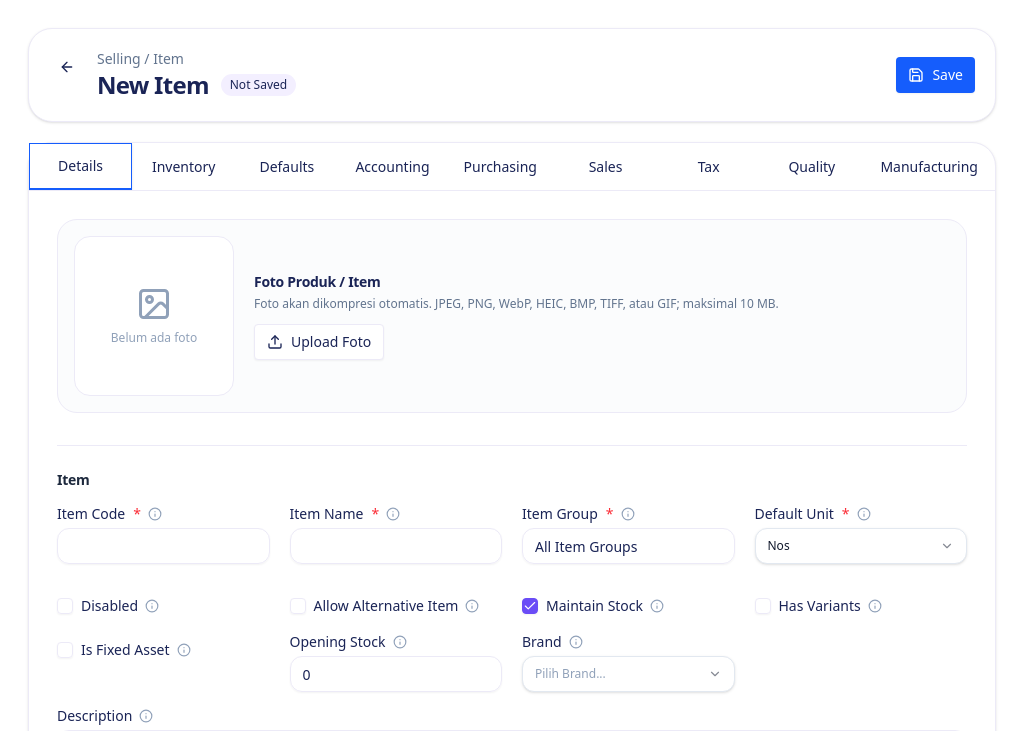
Test: ItemFormPage › fetches UOM and Brand from API and renders SearchableSelect for both
Expected: the heading "New Item" is shown, left=97, top=69, right=209, bottom=101
Expected: the text "Pilih Brand..." is shown, left=535, top=666, right=606, bottom=682
# Click Brand trigger
Click the button "Pilih Brand...": (628,674) left=522, top=656, right=734, bottom=692
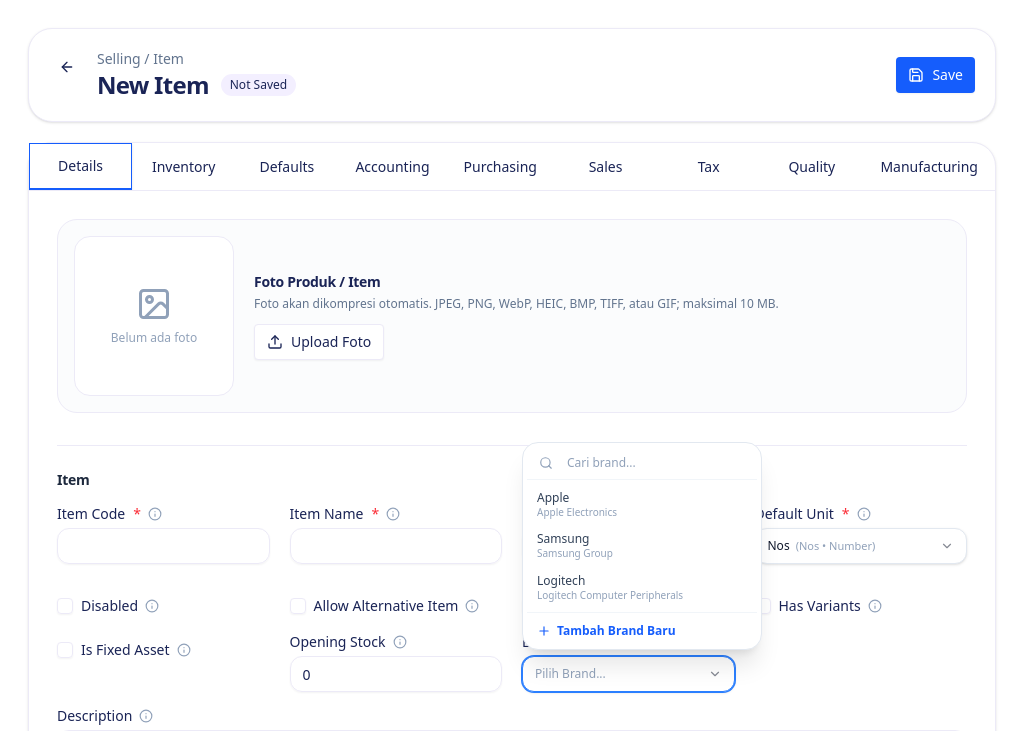
Expected: the text "Apple" is shown, left=537, top=490, right=569, bottom=506
Expected: the text "Samsung" is shown
Expected: the text "Logitech" is shown, left=537, top=573, right=585, bottom=589
# Select "Samsung"
Click the text "Samsung": (563,539) left=537, top=530, right=590, bottom=547
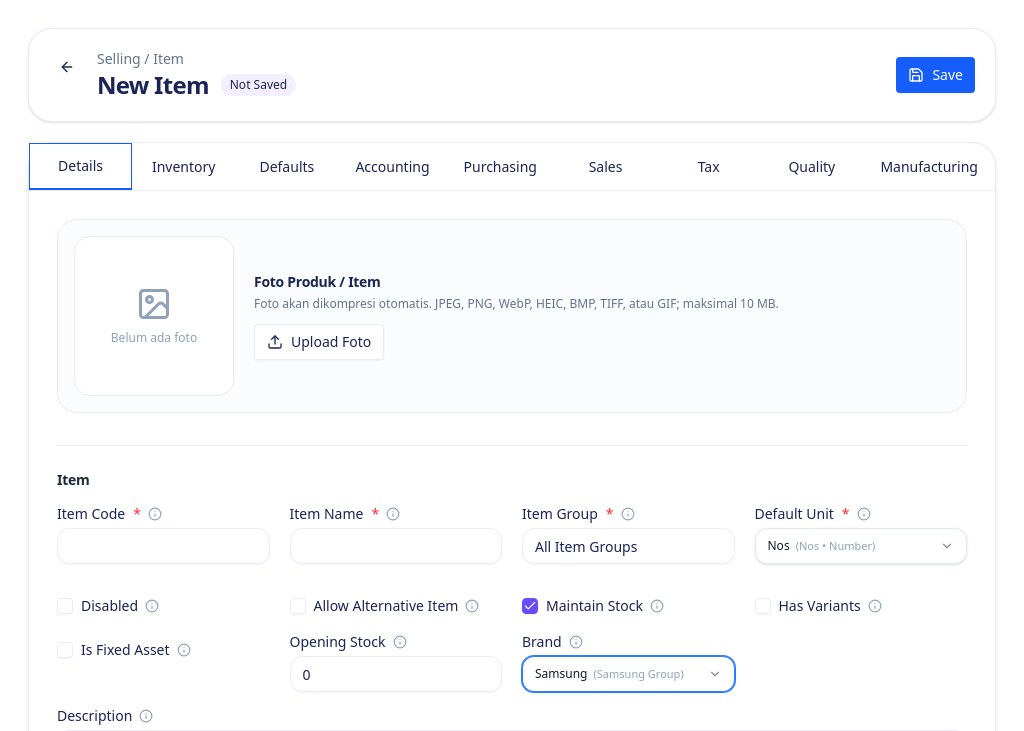
Expected: the text "Samsung" is shown, left=535, top=666, right=588, bottom=682
Click the button "Nos(Nos • Number)": (861,546) left=754, top=528, right=967, bottom=564
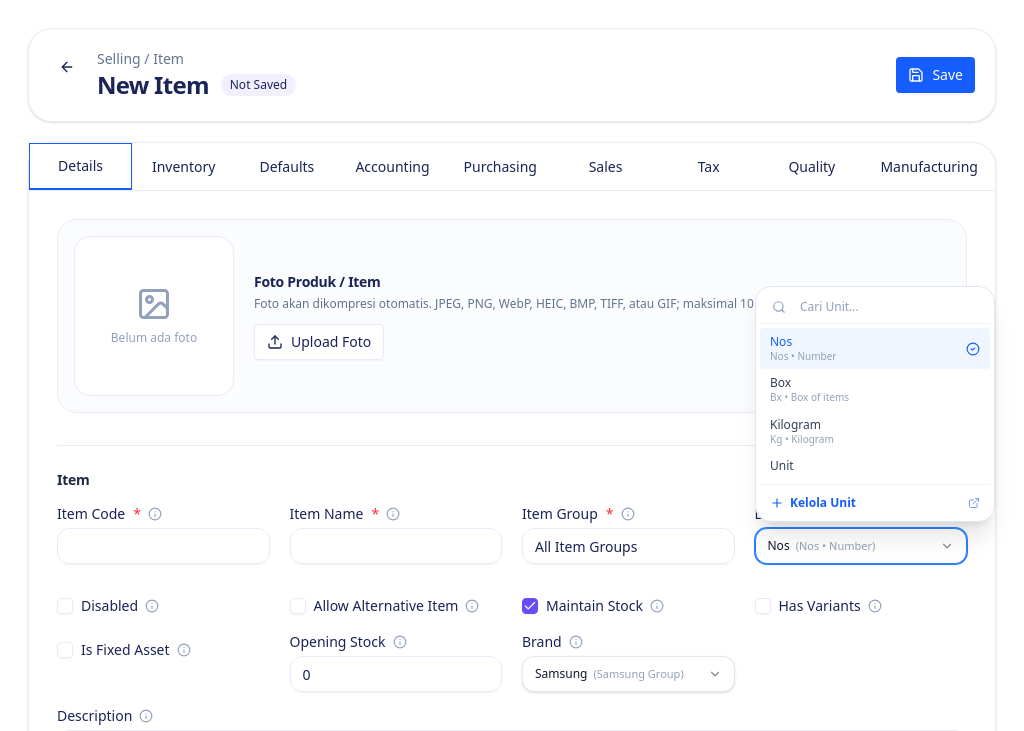
Expected: the text "Box" is shown
Expected: the text "Kilogram" is shown, left=770, top=417, right=821, bottom=433
# Select "Box"
Click the text "Box": (781,383) left=770, top=374, right=791, bottom=391
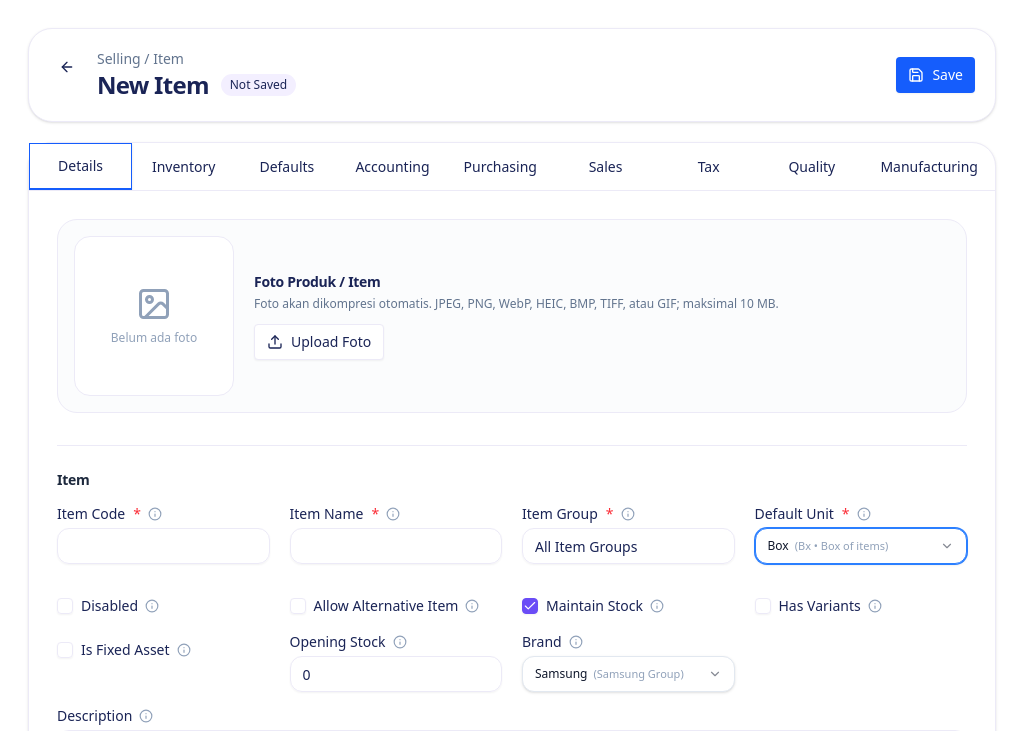
Expected: the text "Box" is shown, left=768, top=538, right=789, bottom=554
